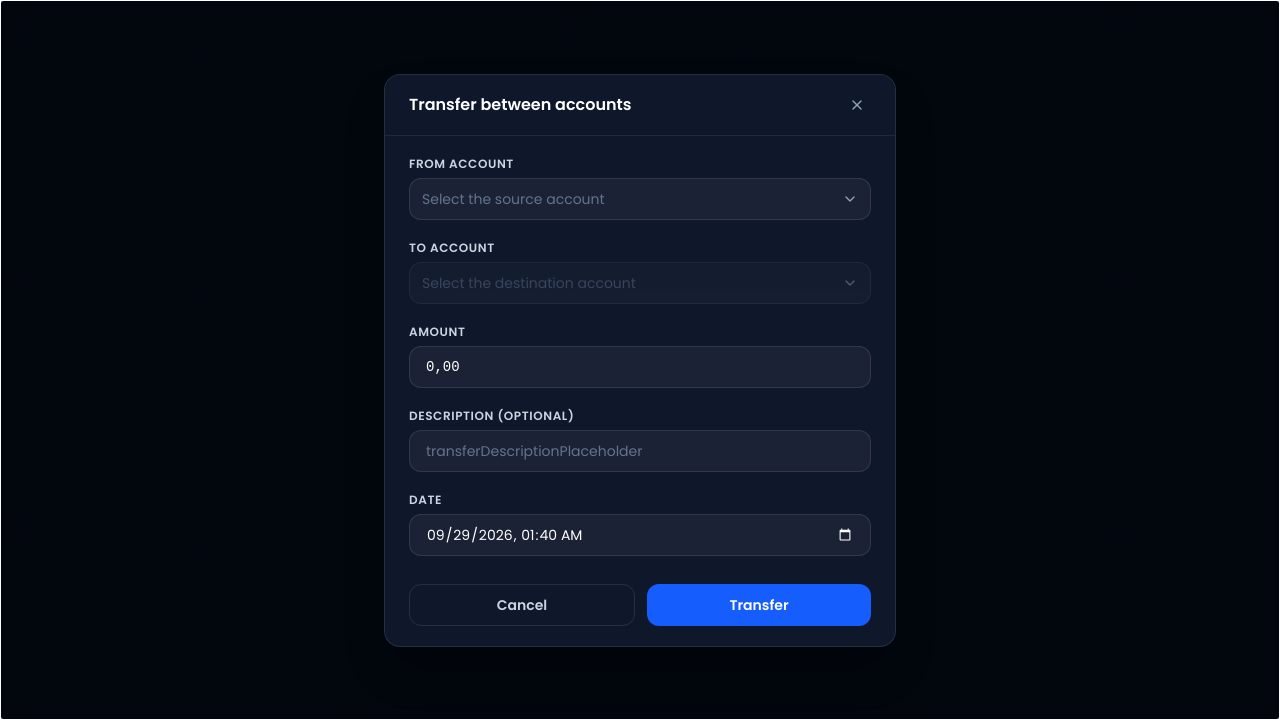
Test: TransferModal › should show "Available to transfer" with the source balance once a source is selected
Expected: the text "Available to transfer" is not shown
Click the dropdown named "From account" at (513, 198), box [409, 178, 871, 220]
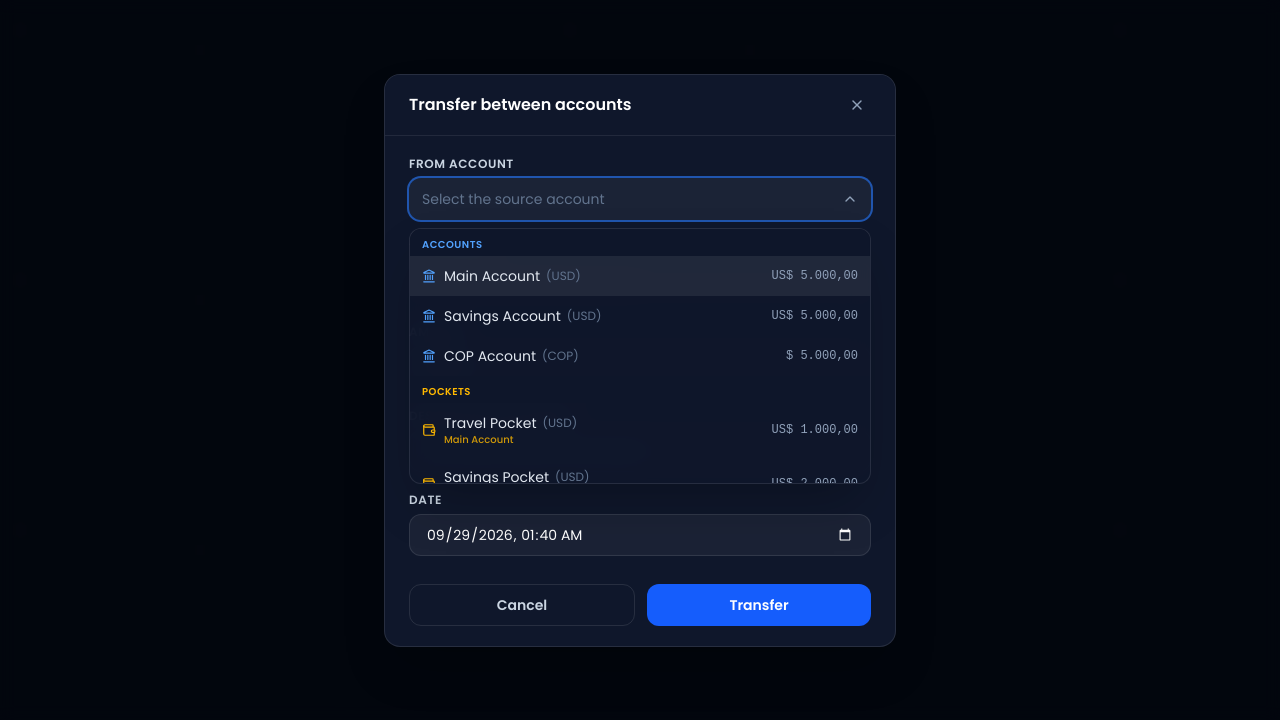
Click the option "Main Account (USD) US$ 5.000,00" at (492, 276), box [410, 256, 870, 296]
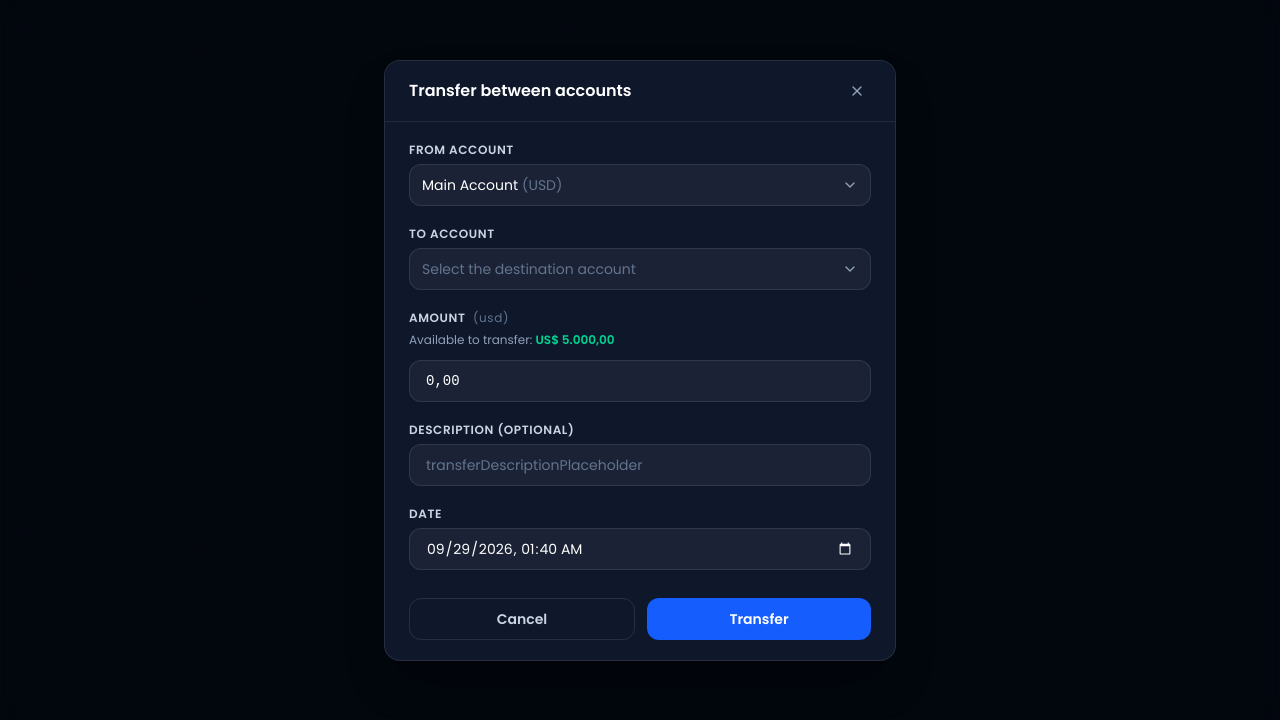
Expected: the text "Available to transfer: US$ 5.000,00" is shown, [409, 330, 614, 348]
